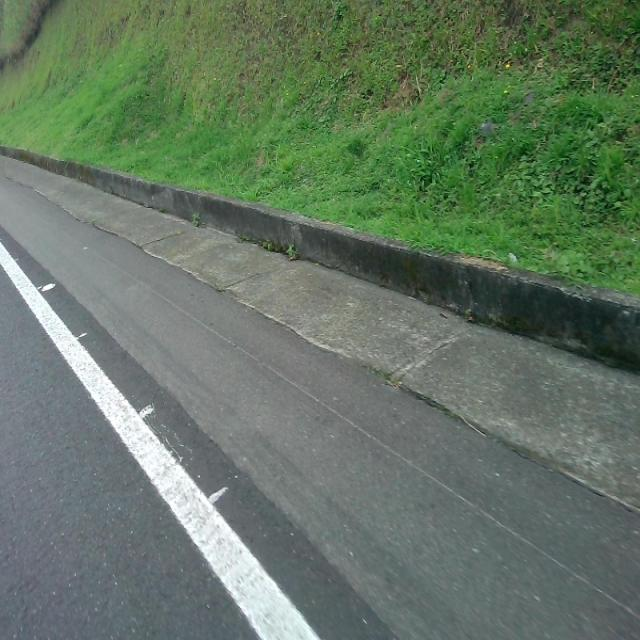DITCH: (1, 147, 638, 638)
